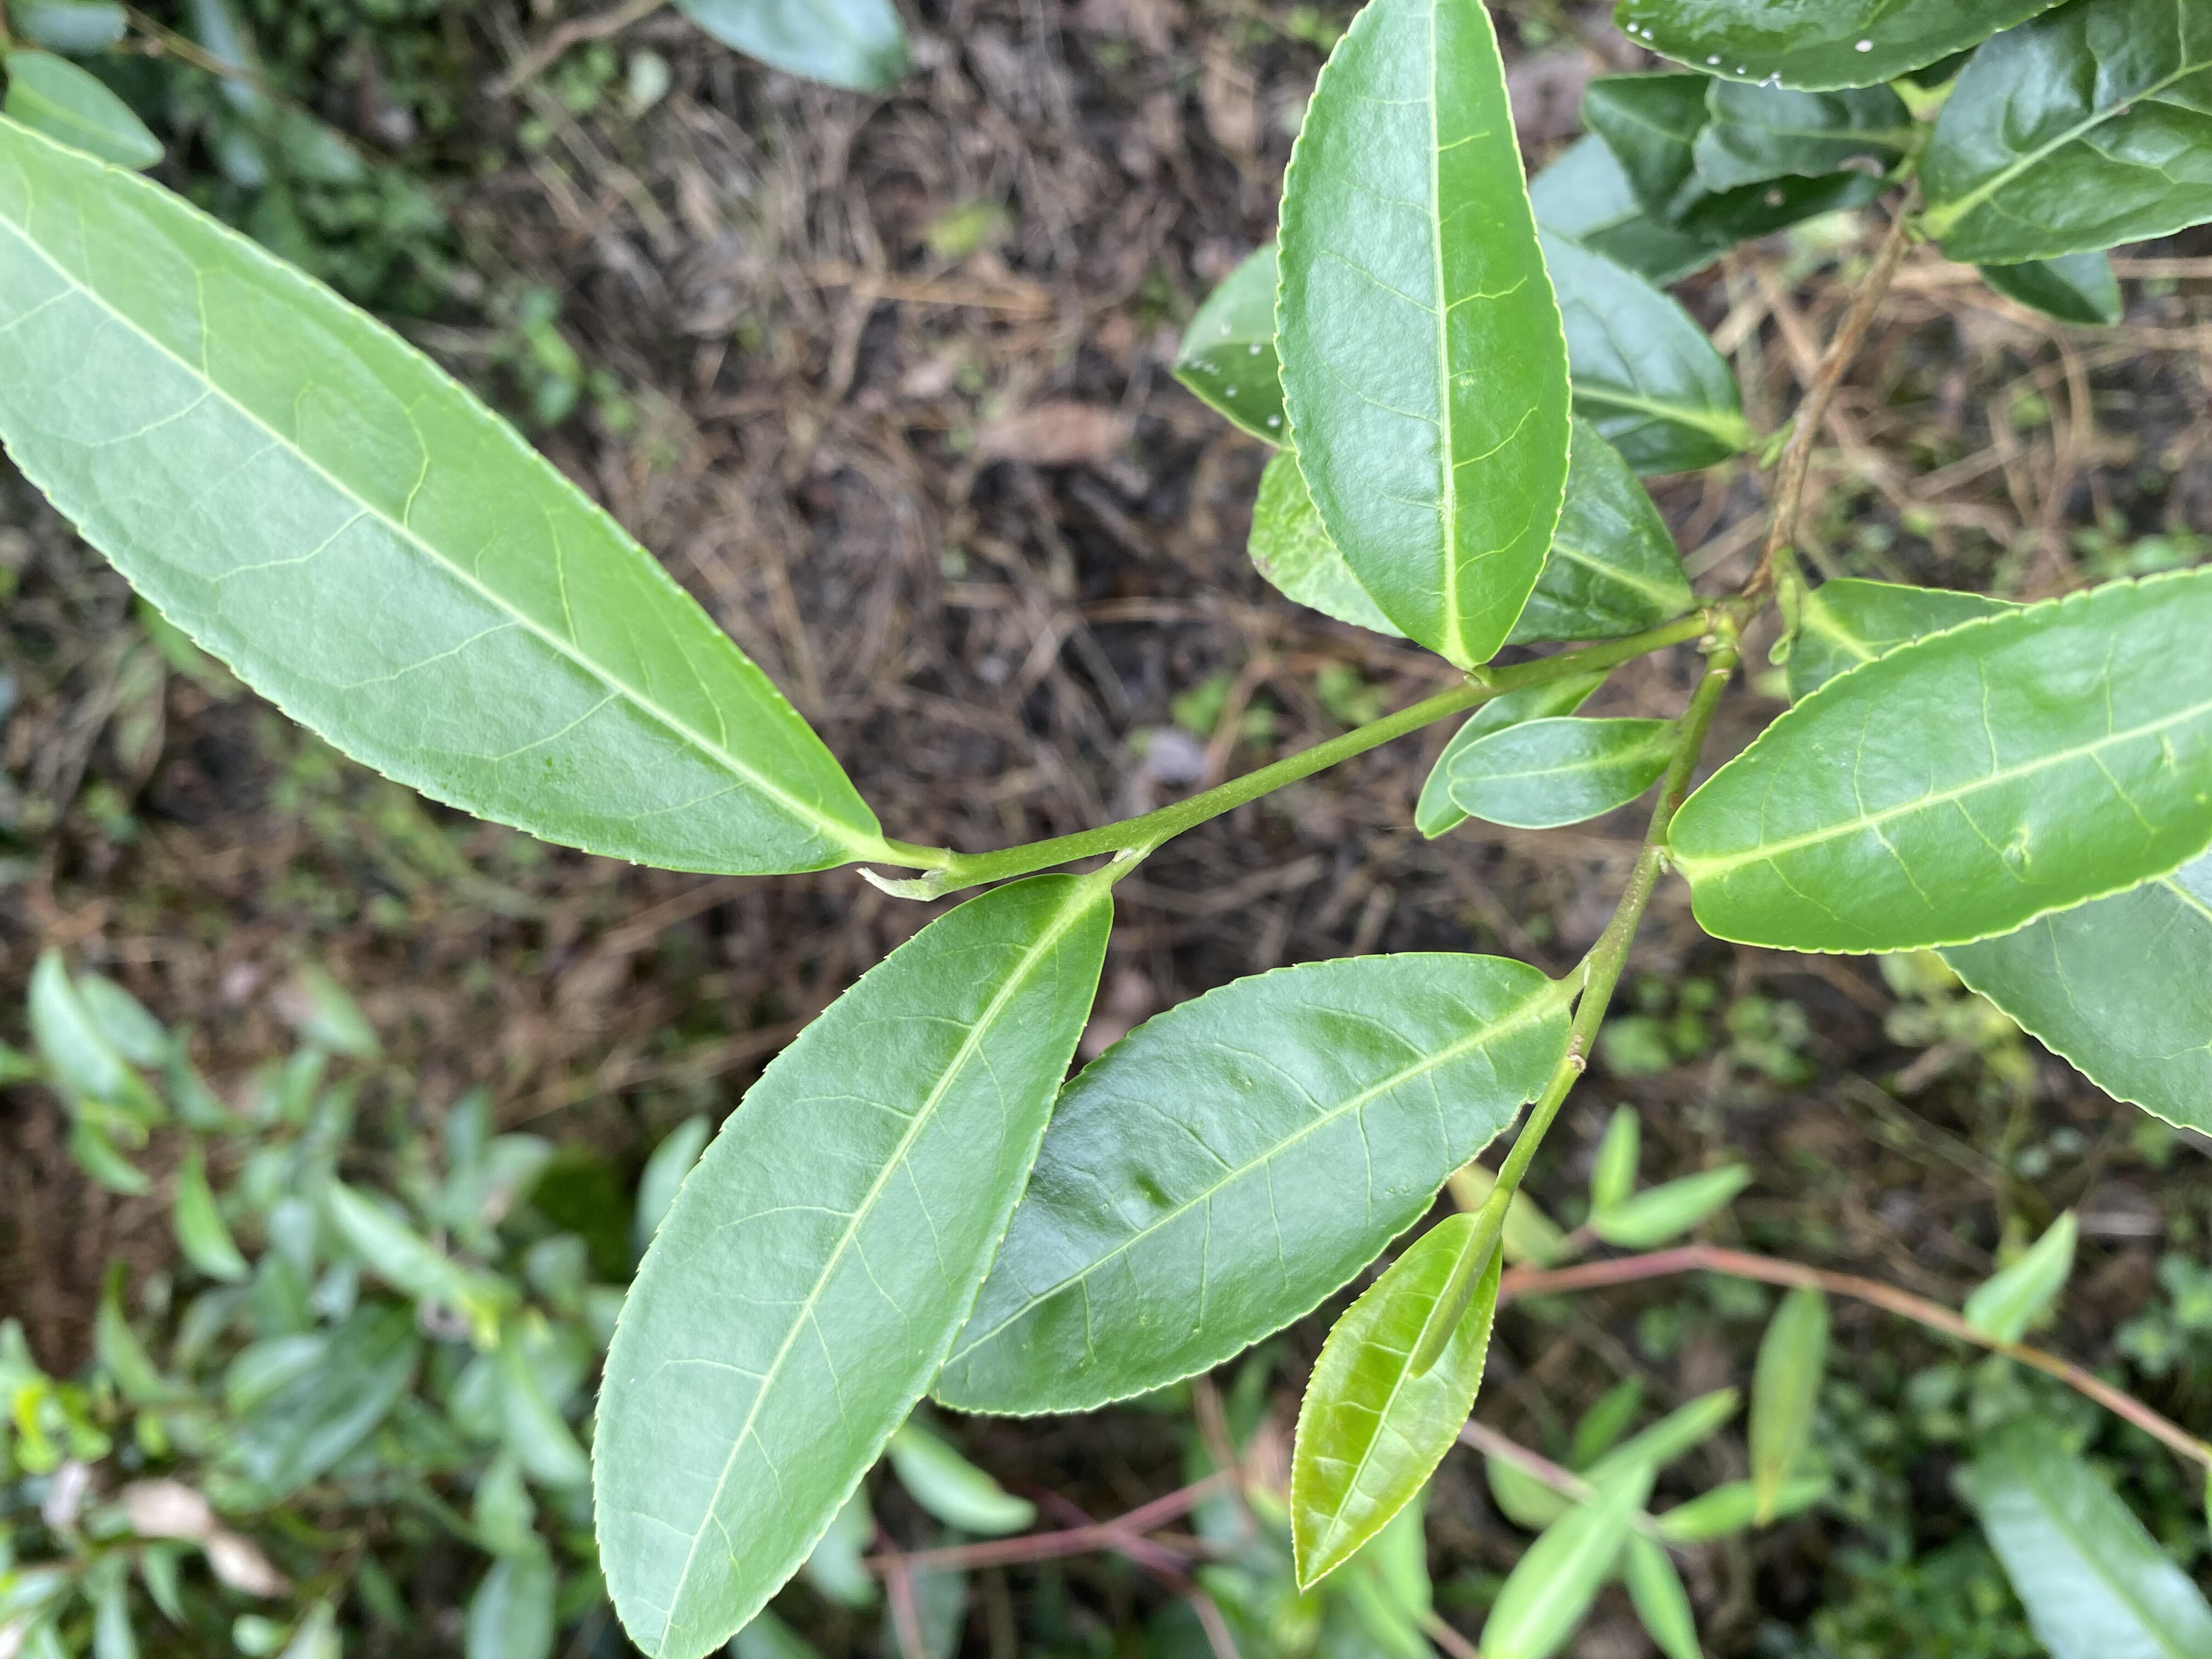healthy: (2, 117, 880, 875), (590, 875, 1116, 1659), (921, 948, 1575, 1412), (1665, 563, 2210, 960), (1271, 3, 1575, 671), (1284, 1209, 1503, 1591), (1447, 714, 1679, 831)
